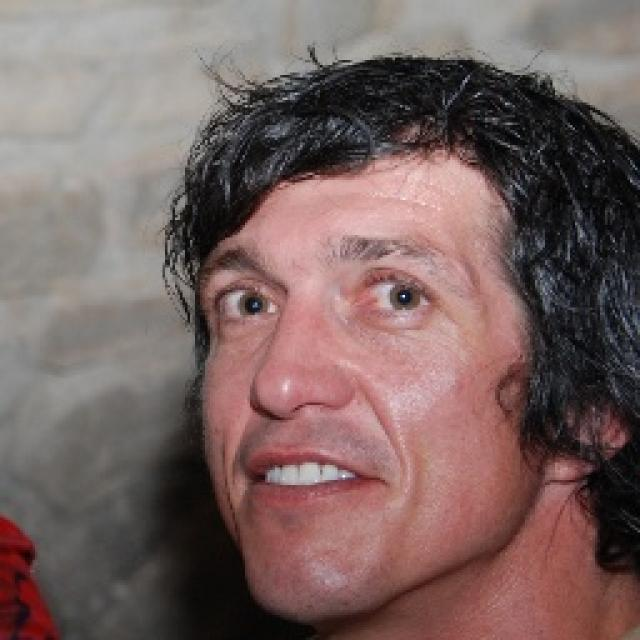earlobe: (546, 379, 636, 484)
